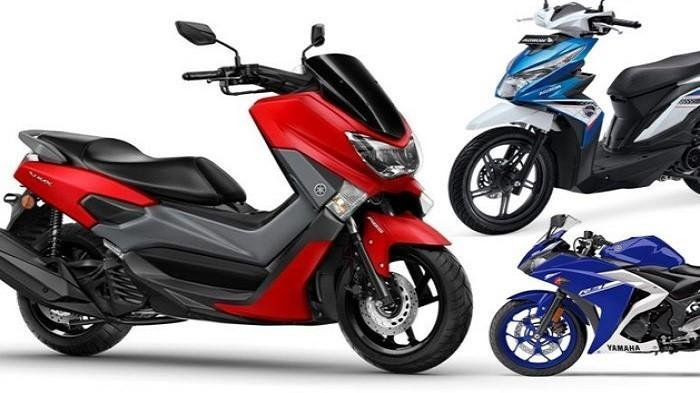motor: (5, 58, 467, 385), (448, 3, 700, 230), (503, 233, 700, 389)
